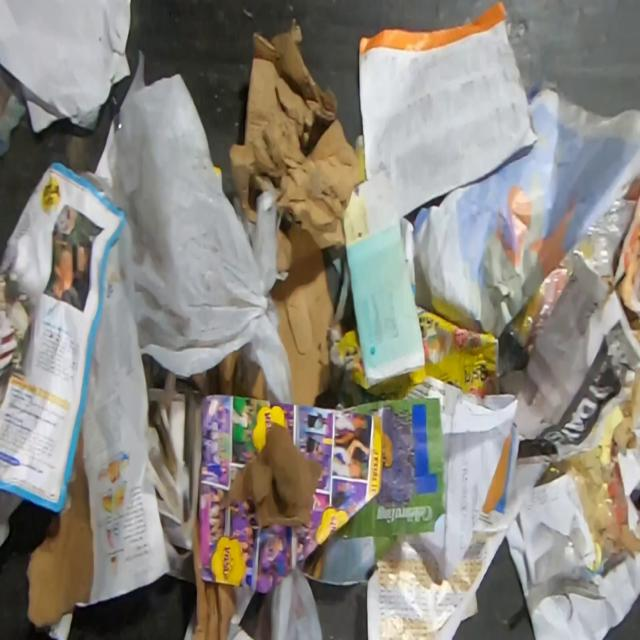cardboard: (226, 15, 364, 407), (344, 166, 427, 386), (24, 426, 94, 631), (190, 508, 236, 640), (190, 348, 267, 400)
soft_plastic: (78, 43, 294, 404), (504, 198, 636, 358), (534, 451, 623, 559), (253, 566, 325, 640), (532, 525, 586, 587)
